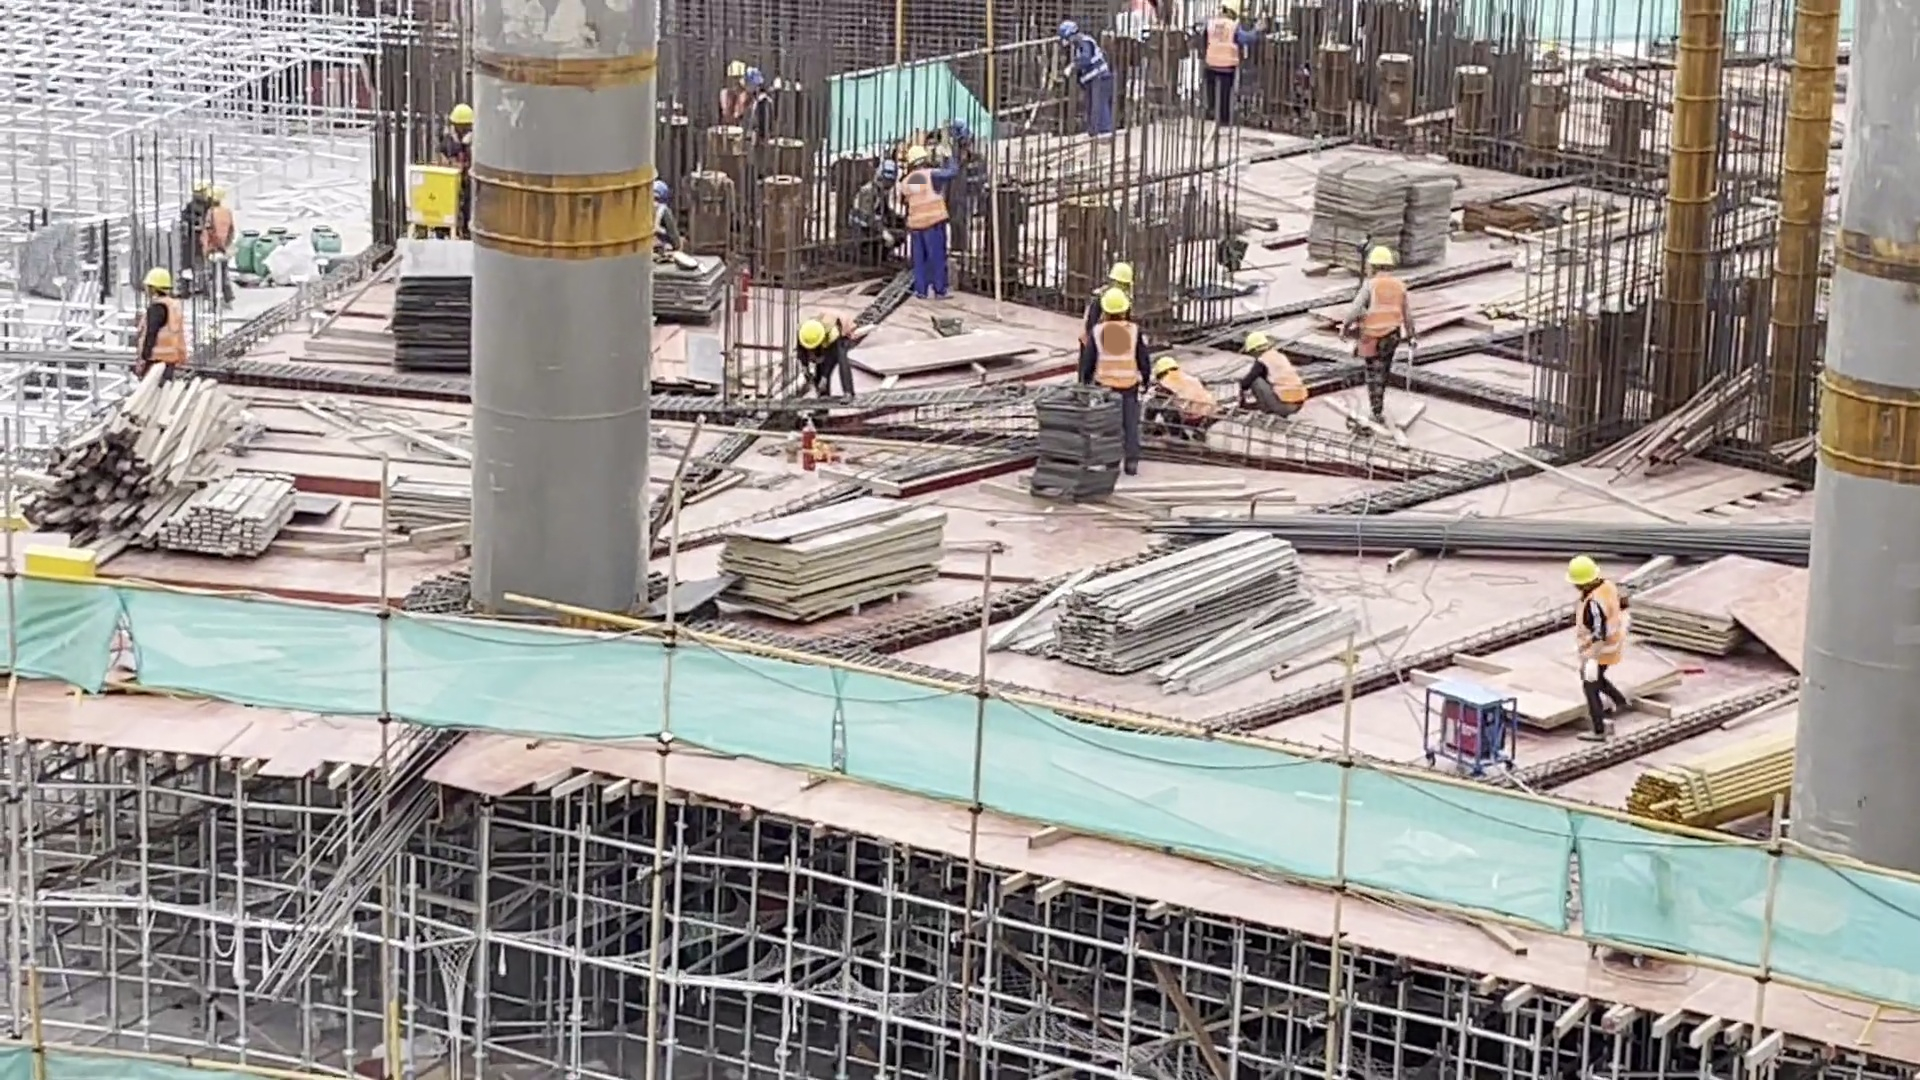board: (713, 492, 940, 616), (1633, 545, 1798, 665)
ebox: (405, 158, 457, 241)
helmet: (1564, 549, 1600, 587), (799, 316, 827, 353), (1101, 286, 1132, 315), (1367, 242, 1400, 269), (144, 266, 174, 291), (1109, 259, 1135, 285), (1154, 356, 1177, 381), (1243, 330, 1270, 352), (907, 139, 925, 164), (1060, 22, 1080, 40)
person: (1340, 245, 1424, 443), (1564, 550, 1644, 750), (1191, 3, 1268, 132), (897, 139, 957, 296), (1091, 285, 1138, 479), (1058, 17, 1118, 146), (131, 259, 193, 381), (1151, 341, 1218, 448), (788, 299, 855, 406), (1238, 323, 1308, 414), (204, 181, 242, 314), (842, 159, 892, 261), (438, 103, 477, 176), (655, 186, 695, 254), (744, 68, 777, 141), (720, 61, 744, 110)
vest: (1579, 577, 1626, 664), (139, 295, 191, 365), (1091, 320, 1139, 391), (1361, 274, 1410, 343), (901, 166, 952, 231), (1161, 372, 1218, 422), (1261, 350, 1309, 405), (1071, 34, 1113, 88), (1205, 15, 1243, 73)
wood: (38, 370, 249, 556), (157, 472, 302, 552)
